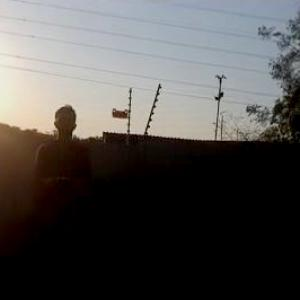follow: (29, 98, 98, 299)
